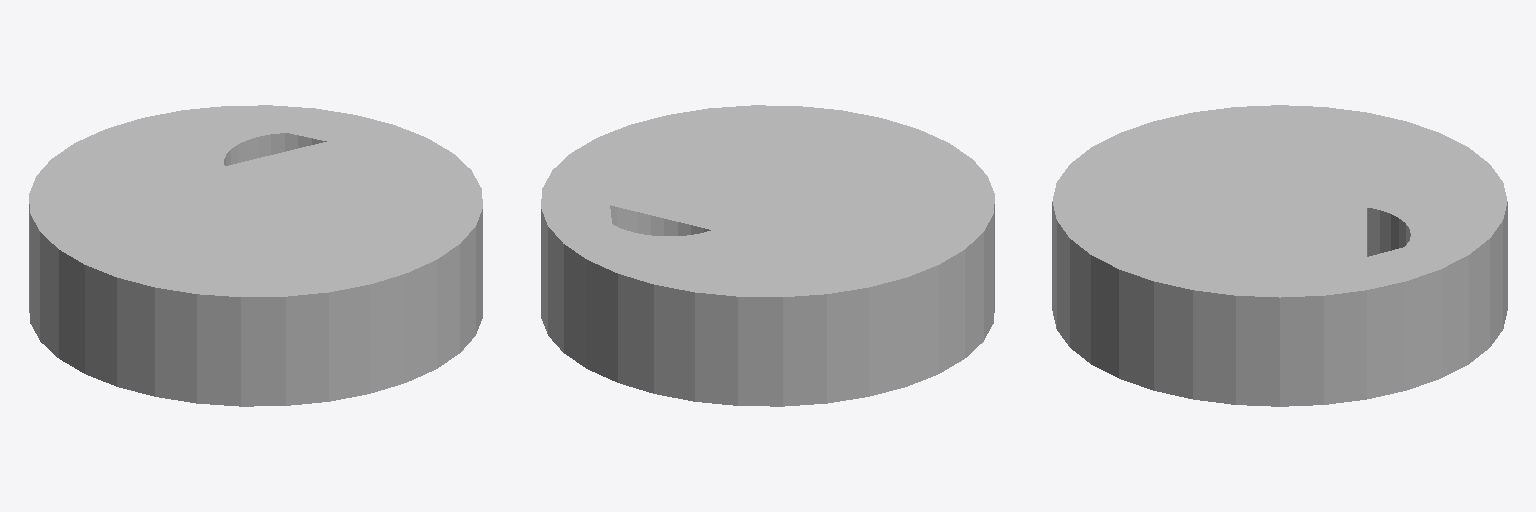
The model's file is Obstical 1.obj.
3 views of the same model, side by side, from view 1: azimuth 30°, elevation 25°; view 2: azimuth 150°, elevation 25°; view 3: azimuth 270°, elevation 25° (orthographic).
Parts seen in each view (by area): view 1: Cylinder; view 2: Cylinder; view 3: Cylinder.
Boxes of the visible parts, <box> form: Cylinder: <box>29,105,482,406</box>; Cylinder: <box>541,105,994,406</box>; Cylinder: <box>1052,105,1507,406</box>.
Size of the model in its own units: 2 by 0.5299 by 2.